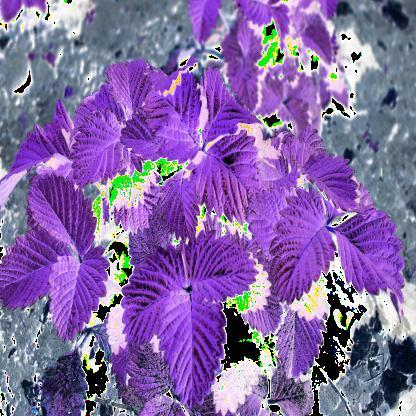Strawberry leaf: (162, 288, 228, 404), (268, 193, 336, 304), (332, 212, 409, 310), (118, 240, 186, 343), (196, 129, 264, 228), (146, 66, 207, 164), (25, 172, 98, 253), (49, 257, 109, 346), (200, 58, 260, 147), (178, 237, 258, 303), (12, 228, 72, 314), (71, 103, 130, 188), (297, 145, 358, 214), (108, 45, 154, 117)
